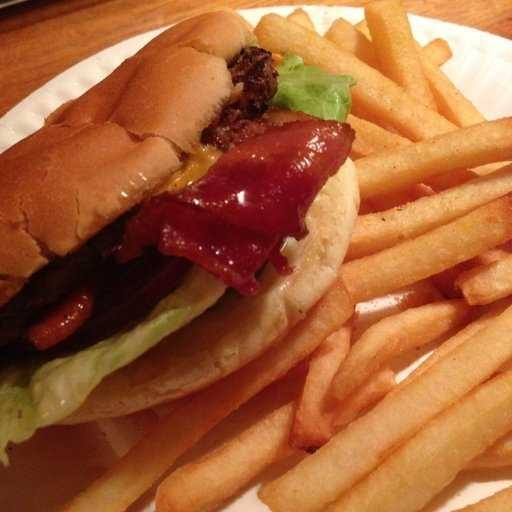hamburger: (1, 18, 365, 437)
